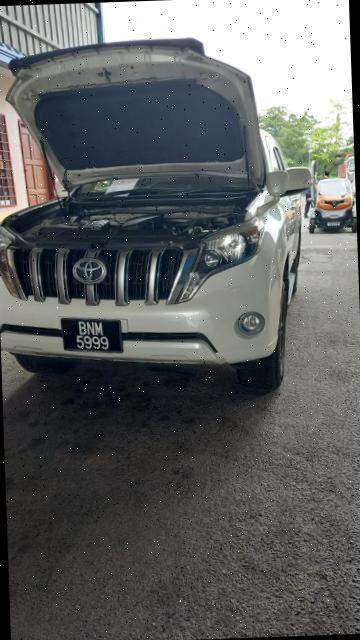License_Plate: (62, 316, 124, 354)
